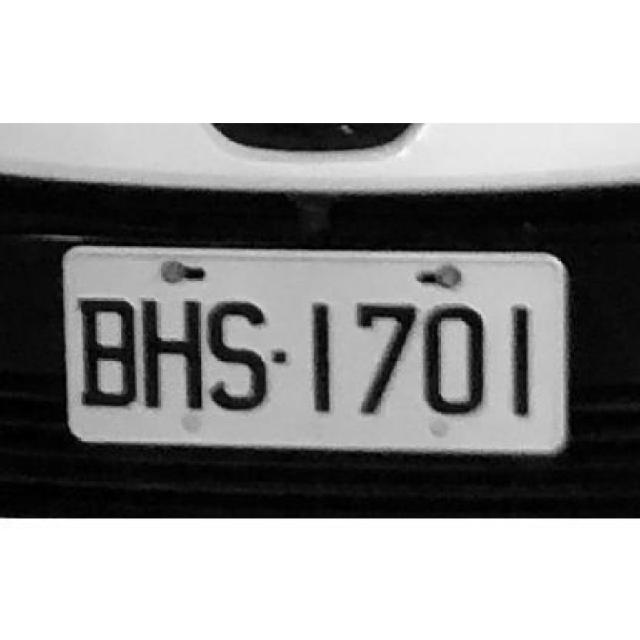-: (272, 349, 290, 366)
0: (423, 302, 489, 418)
1: (504, 306, 534, 416), (311, 305, 332, 412)
7: (356, 303, 418, 419)
B: (74, 297, 138, 409)
H: (139, 296, 206, 412)
S: (203, 297, 268, 412)
